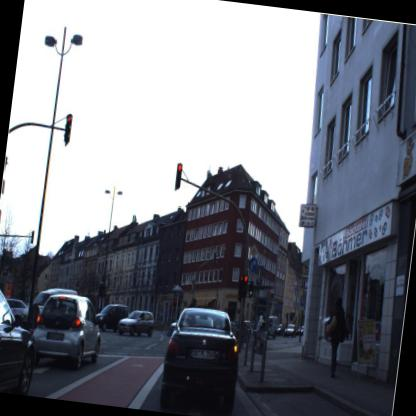mandatory: (246, 253, 259, 272)
other: (249, 242, 260, 258)
